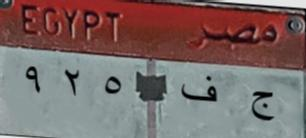2: (60, 61, 86, 99)
5: (97, 72, 127, 103)
9: (22, 62, 47, 98)
faa: (177, 72, 224, 108)
jeem: (243, 83, 284, 132)
